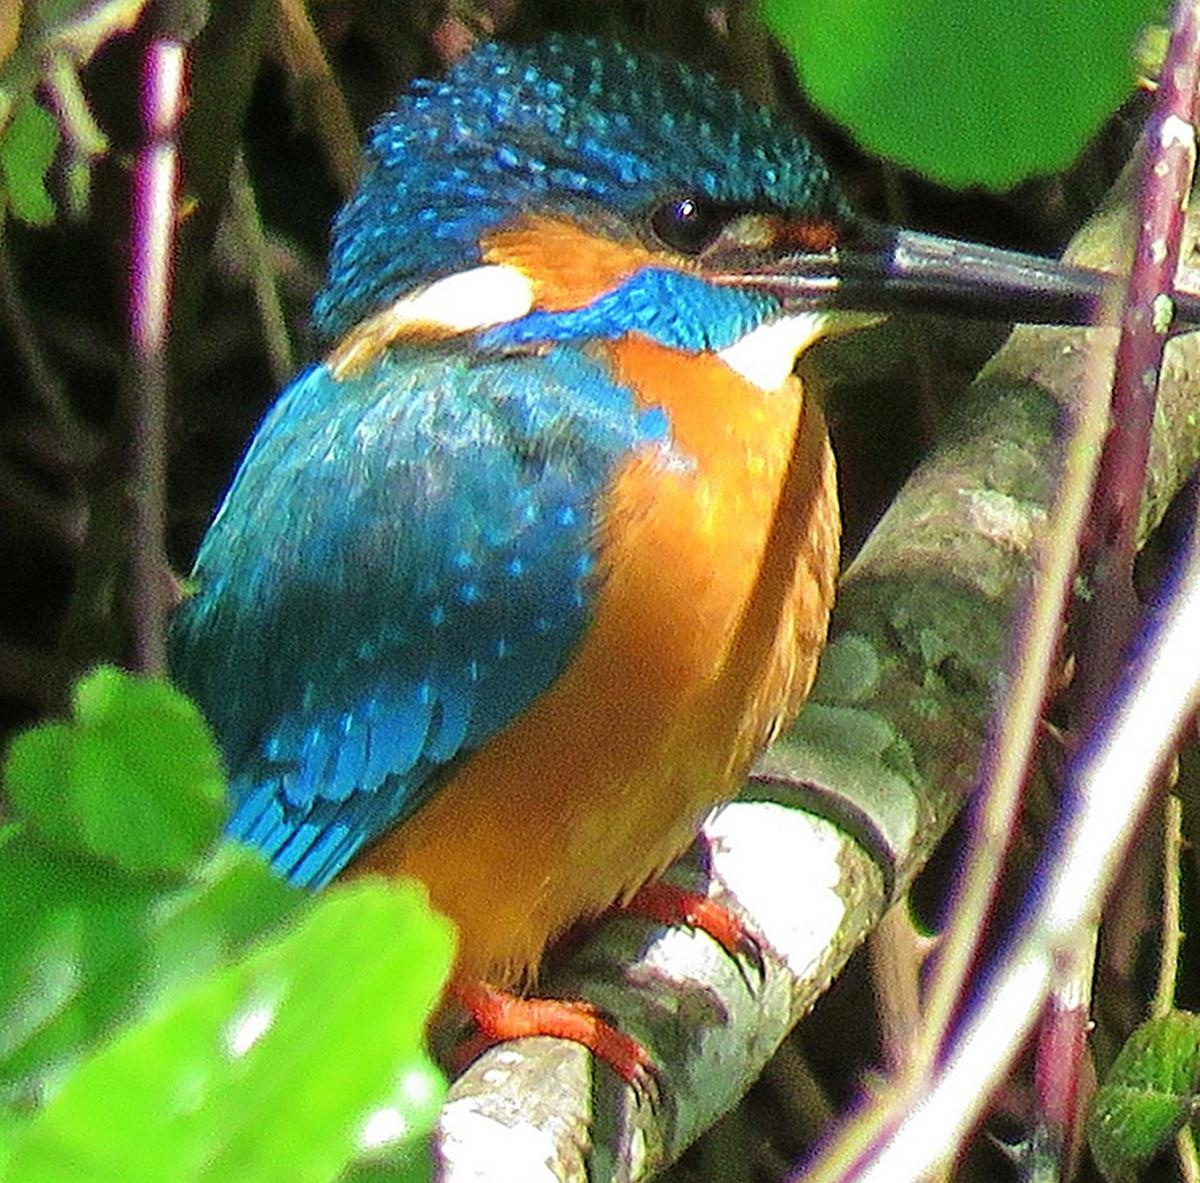kingfisher: (190, 26, 1144, 1036)
